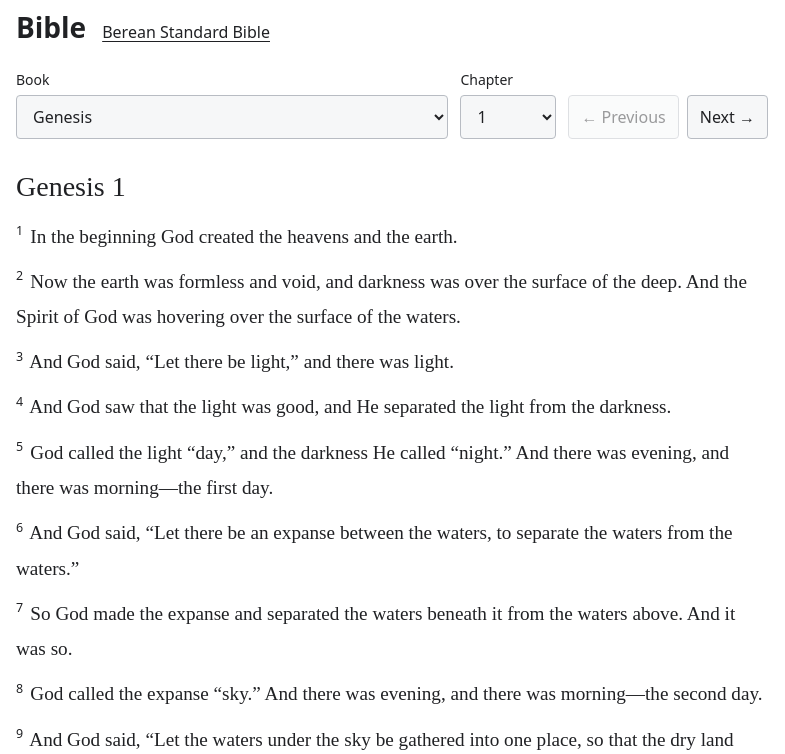
Test: Bible reader › changes books at chapter one and remembers that chapter on a new visit
Later steps or results of the test are not shown.
Expected: the text "1 In the beginning God created the heavens and the earth." is shown, [16,222,458,247]
Select "John" in the dropdown labelled "Book" at (232, 117), box [16,95,448,139]
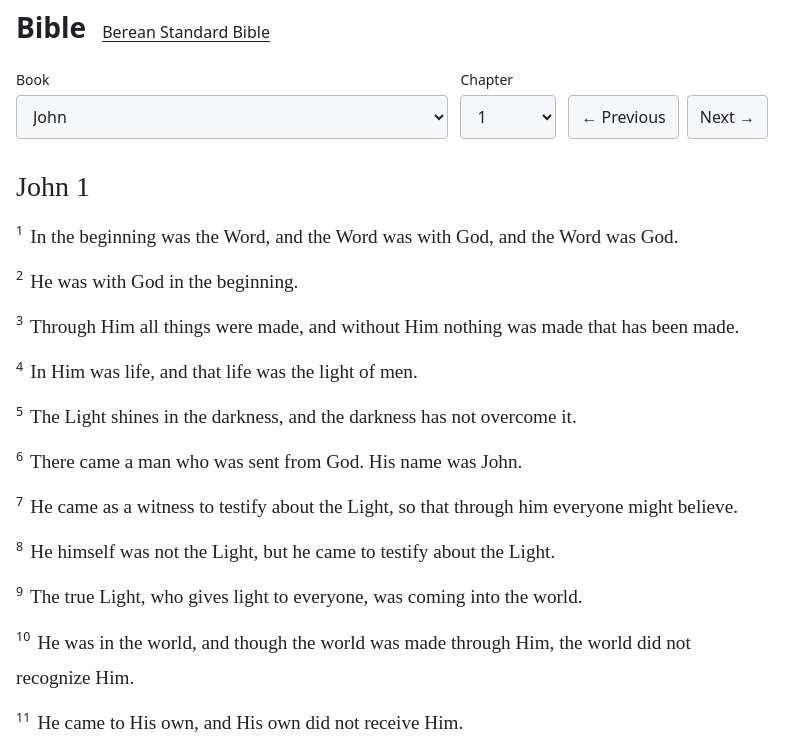
Expected: the text "In the beginning was the Word" is shown, [30,226,678,247]
Select "3" in the dropdown labelled "Chapter" at (508, 117), box [460,95,556,139]
(page scrolled)
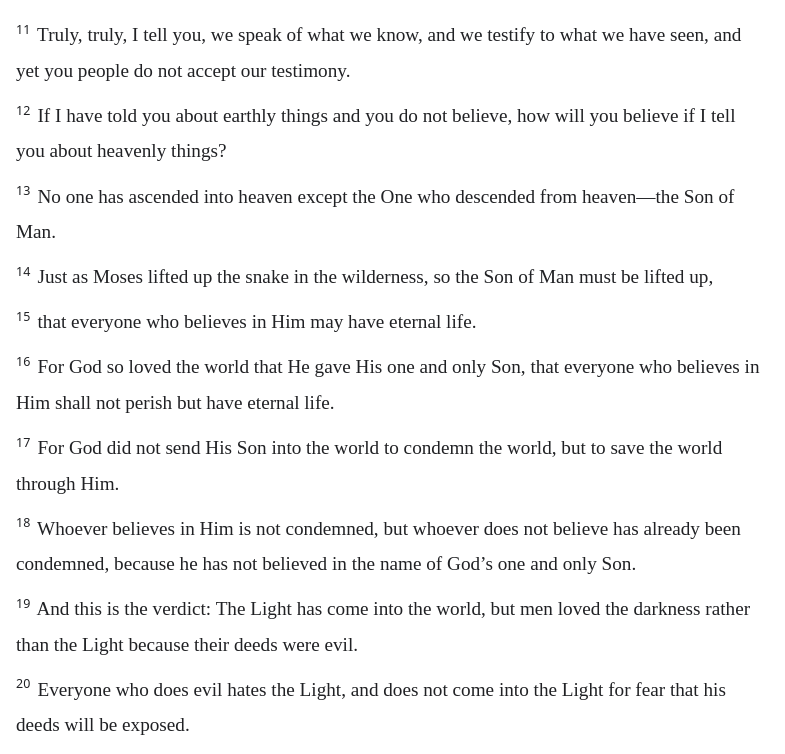
Expected: the text "For God so loved the world" is shown, [16,356,760,413]
